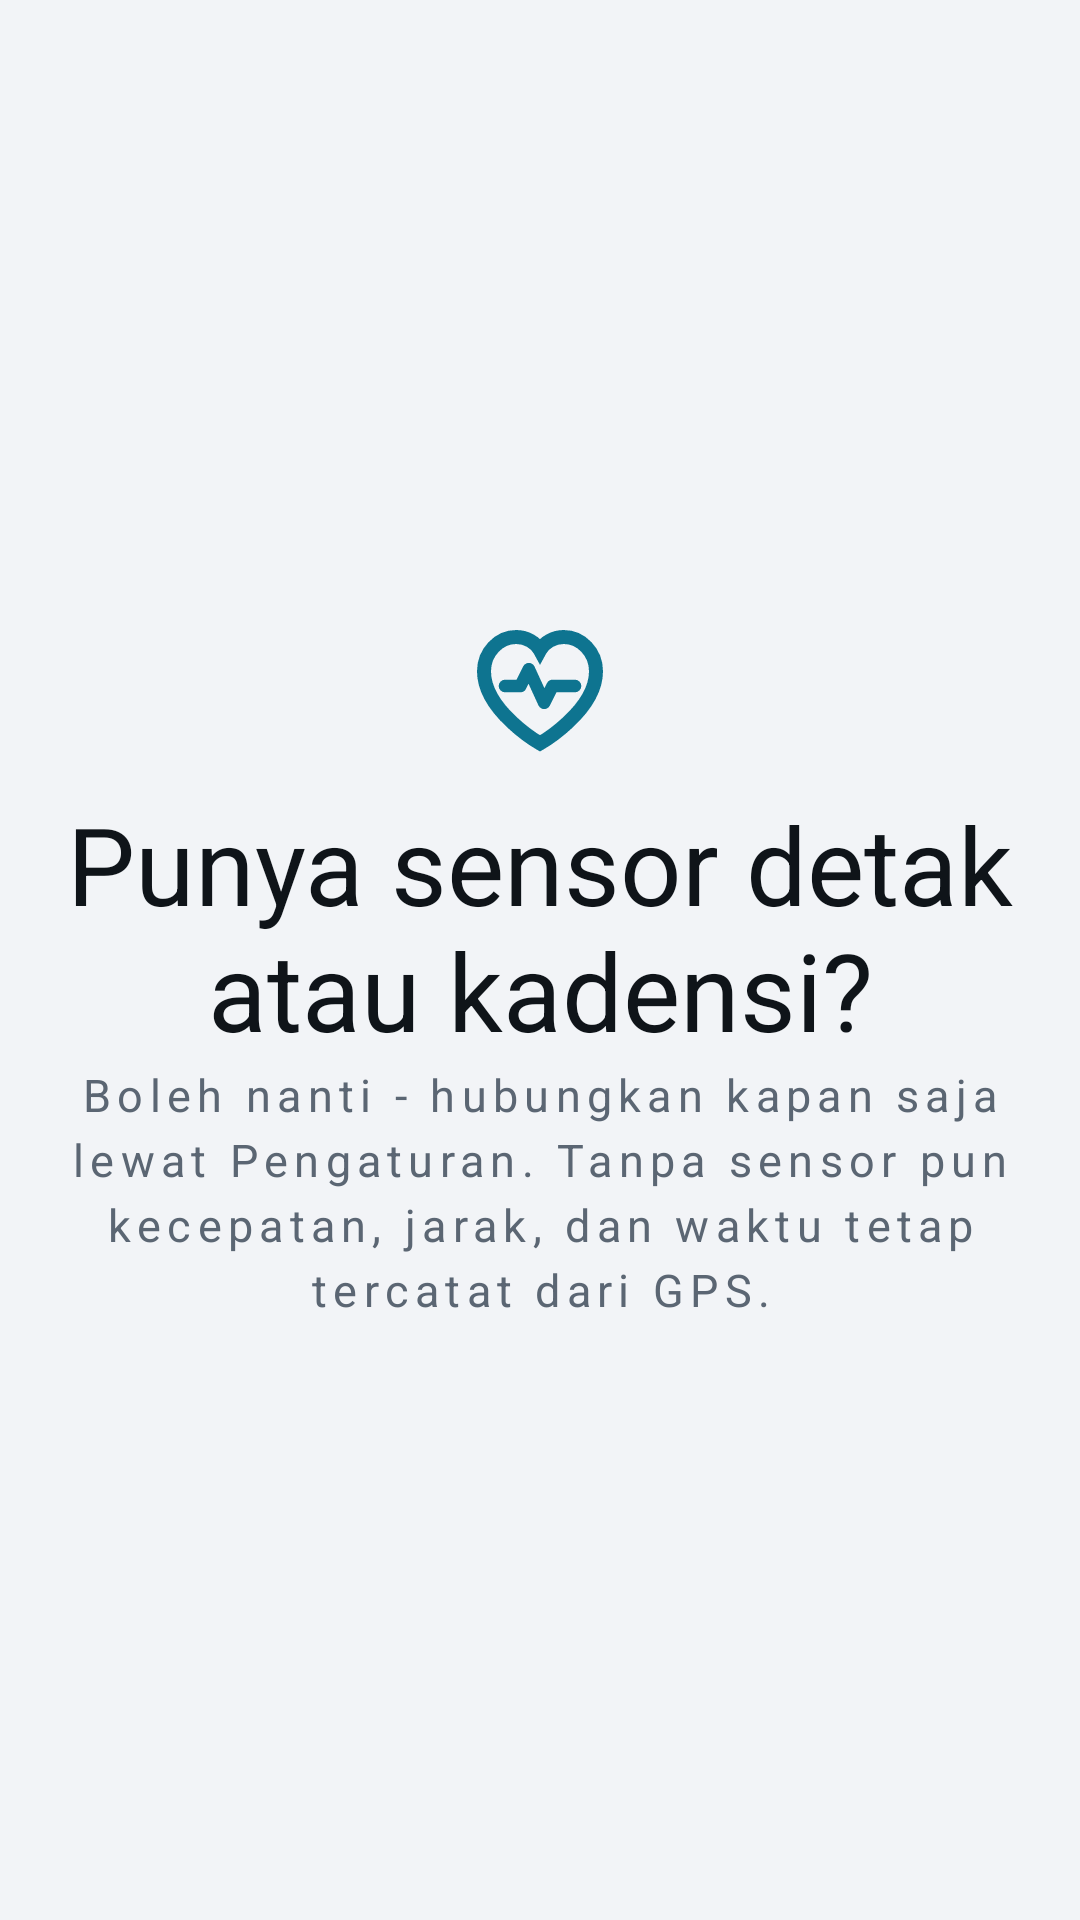

Named icons in this screenshot (1080*1920) and their centers, point (x, y):
Ikon sensor: point (540, 691)
